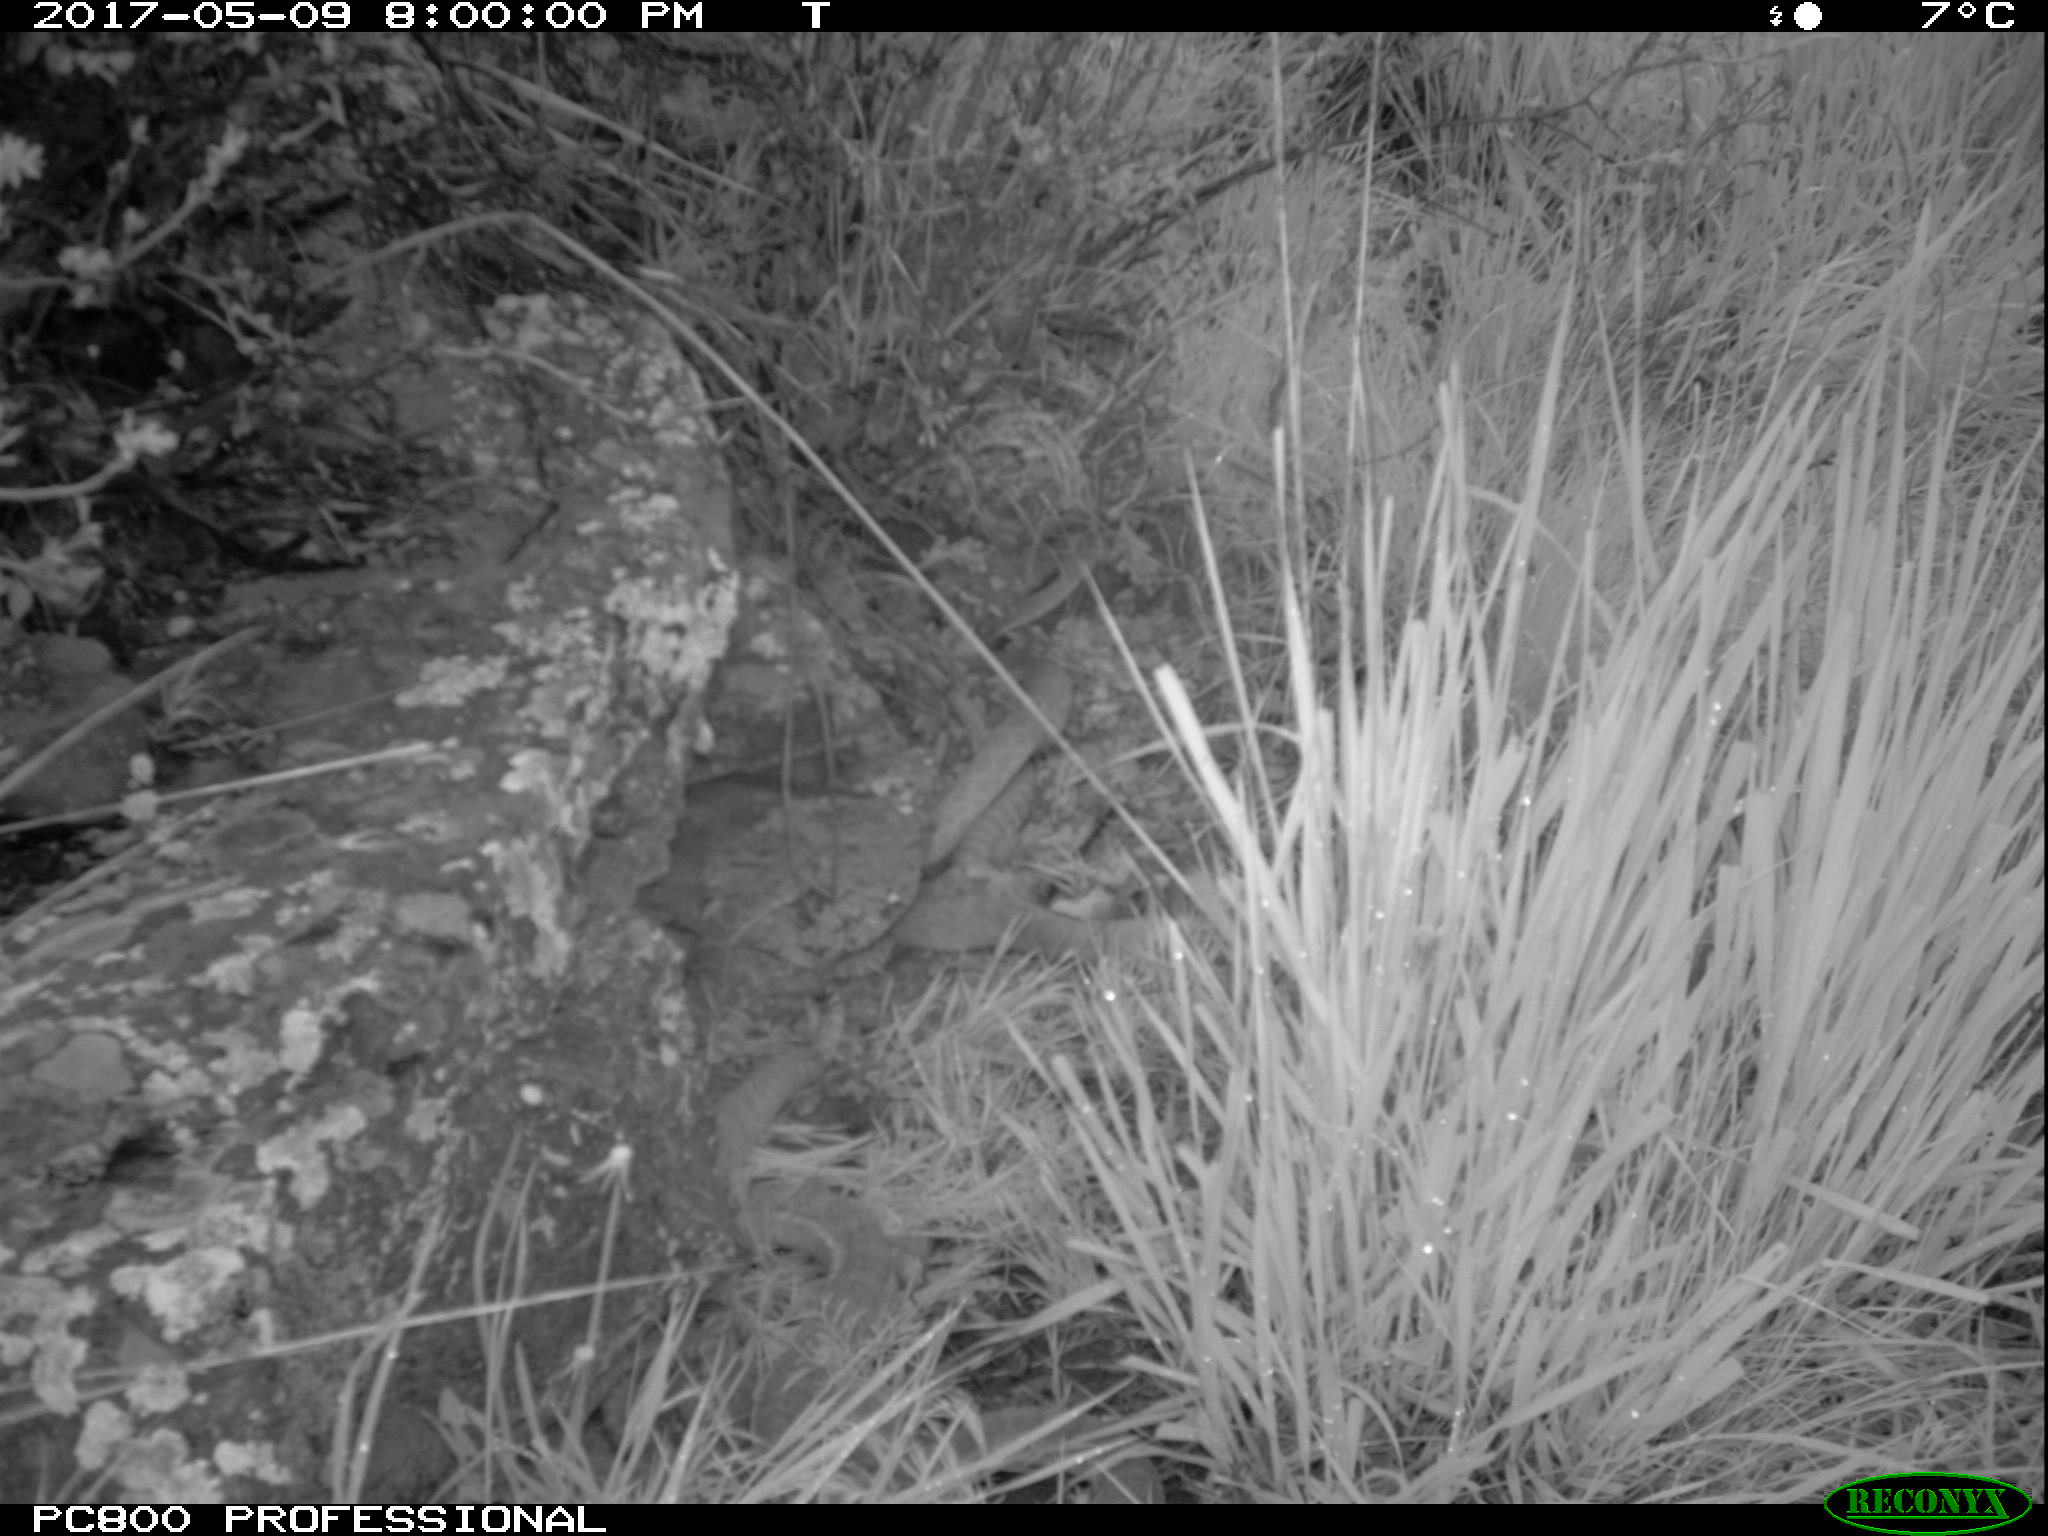snake: (697, 1008, 898, 1342), (776, 1347, 1166, 1505), (932, 753, 1206, 966), (919, 657, 1072, 881)
